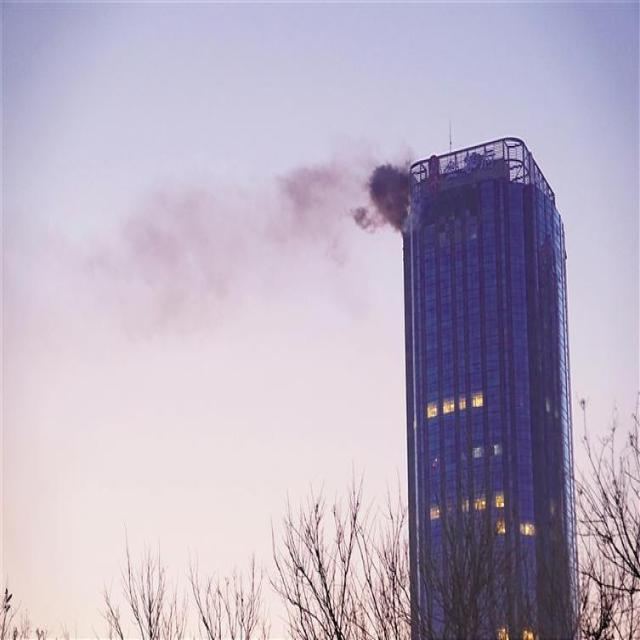Smoke: (354, 160, 407, 236)
